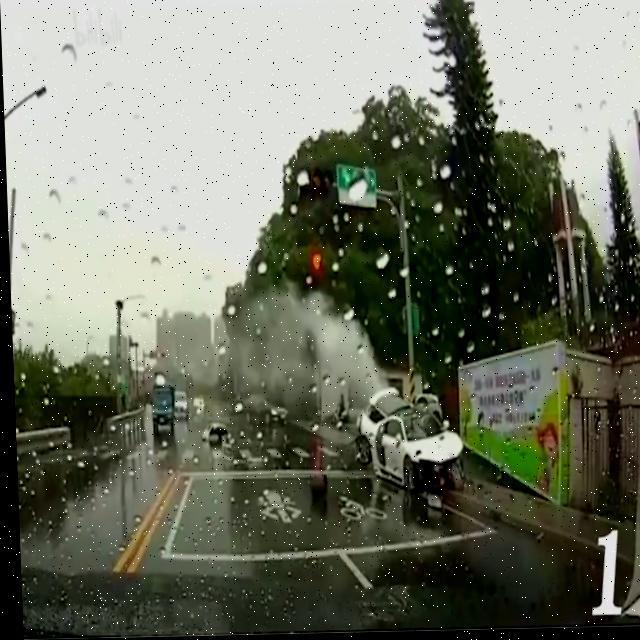single accident: (316, 331, 496, 531)
